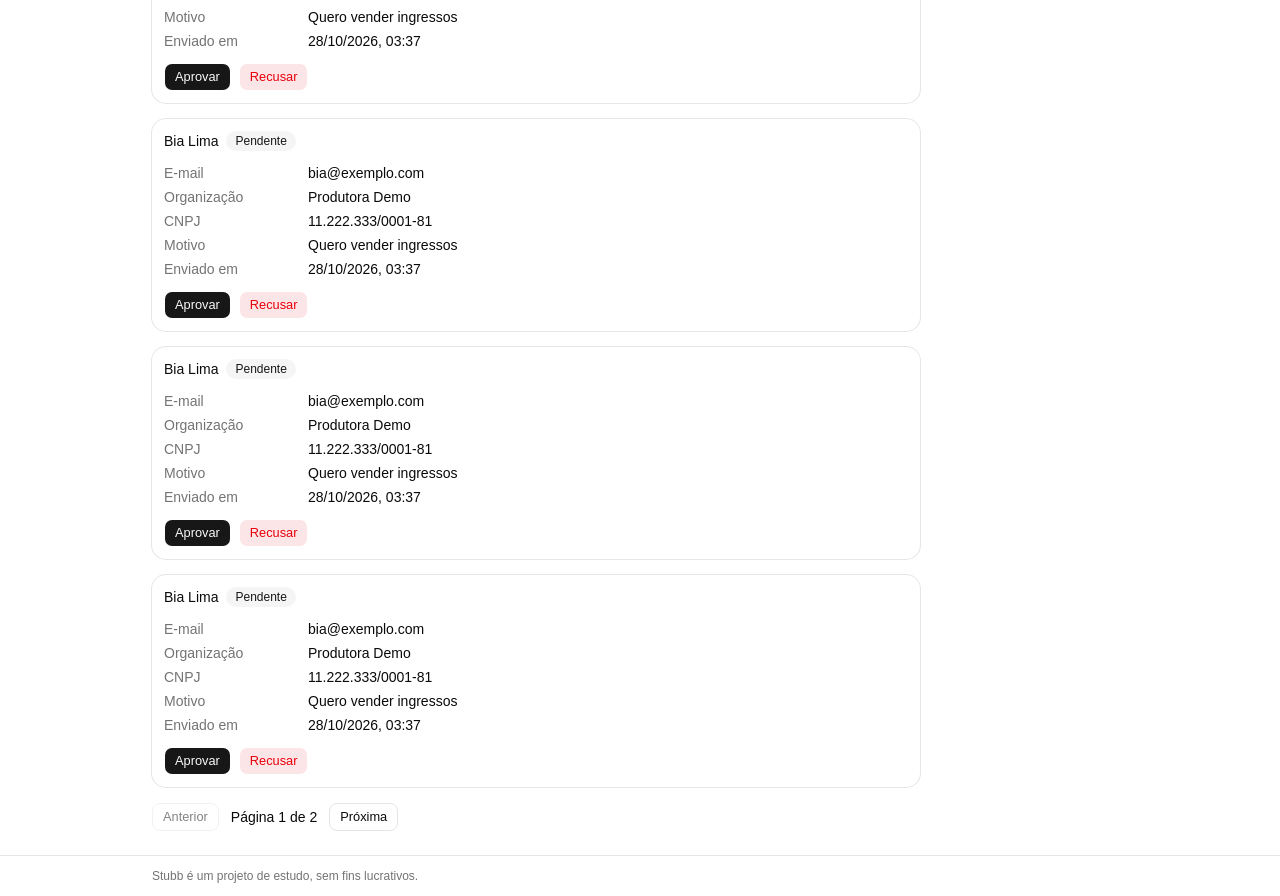
Test: AdminOrganizerRequestsPage › paginação: Próxima e Anterior mudam a página consultada
(page scrolled)
Expected: the text "Página 1 de 2" is shown, 231,807 -> 317,827
Expected: the button "Anterior" is disabled, 152,803 -> 219,831
Click the button "Próxima". click: coordinates (364, 817)
box: 329,803 -> 398,831
(page scrolled)
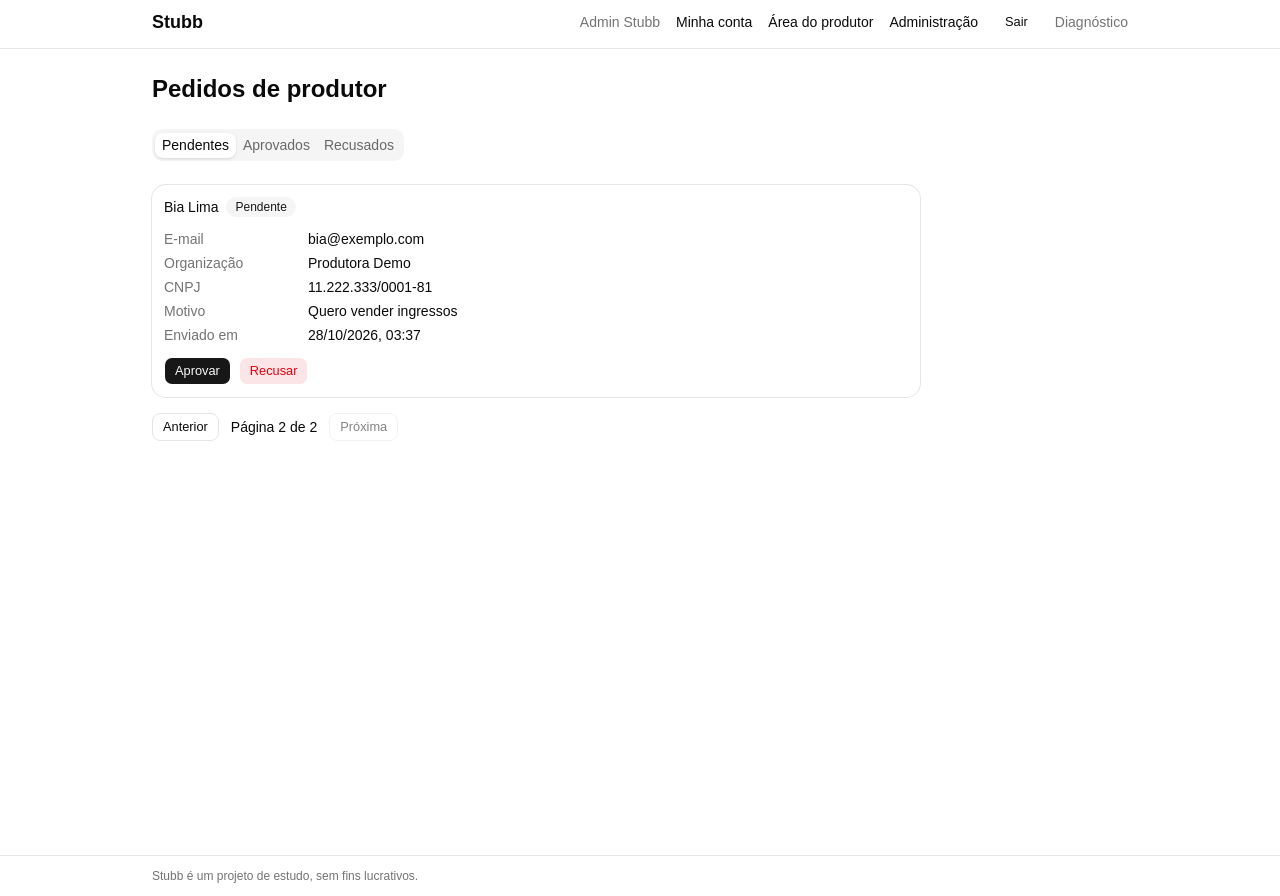
Expected: the text "Página 2 de 2" is shown, 231,417 -> 317,437
Expected: the button "Próxima" is disabled, 329,413 -> 398,441
Click the button "Anterior". click: coordinates (185, 427)
box: 152,413 -> 219,441
(page scrolled)
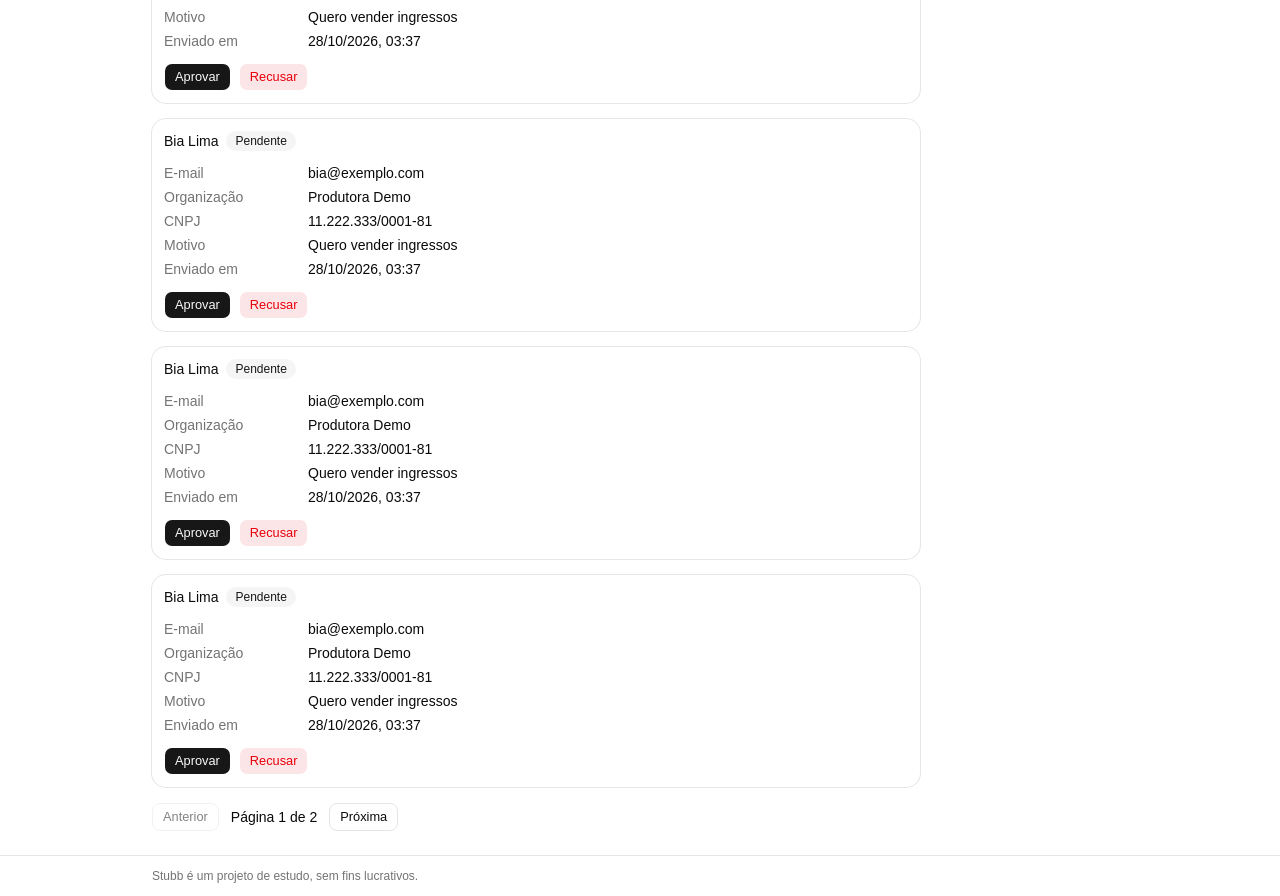
Expected: the text "Página 1 de 2" is shown, 231,807 -> 317,827
